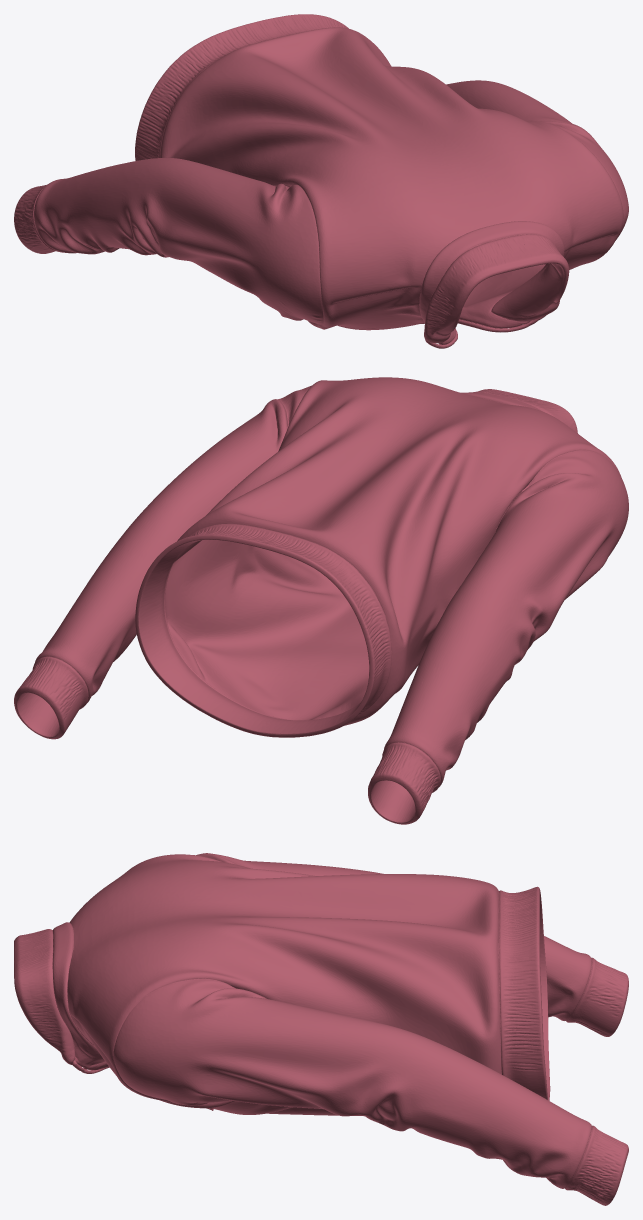
The model's file is Chevalier_Roth_Halfzip_Bordeaux_Referenz.glb.
3 views of the same model, one above another, from view 1: azimuth 30°, elevation 25°; view 2: azimuth 150°, elevation 25°; view 3: azimuth 270°, elevation 25° (orthographic).
Parts seen in each view (by area): view 1: remeshy_print_1793551640141.stl; view 2: remeshy_print_1793551640141.stl; view 3: remeshy_print_1793551640141.stl.
Part boxes in pixels (bbox=[...]): remeshy_print_1793551640141.stl: bbox=[14, 14, 628, 348]; remeshy_print_1793551640141.stl: bbox=[14, 377, 628, 824]; remeshy_print_1793551640141.stl: bbox=[14, 853, 628, 1205].
Bounding box in the file's own units: 2.42 × 1.27 × 3.2.
